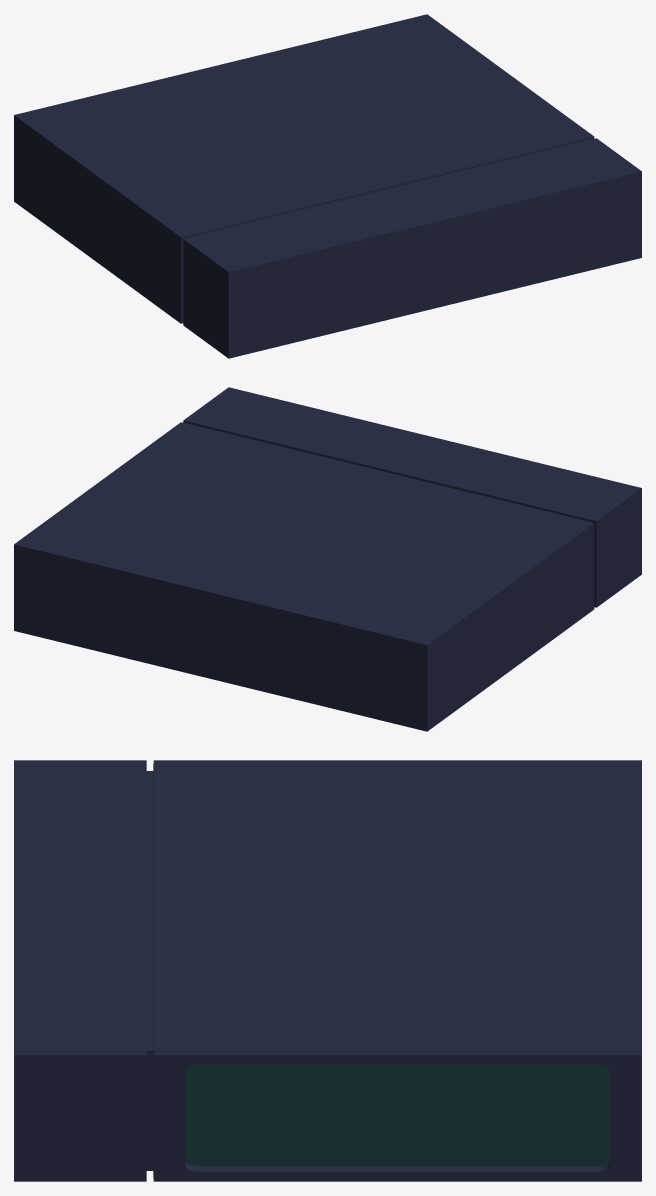
Rendered from ApparatusUnitButton.glb.
3 renders of one model, top to bottom at view 1: azimuth 30°, elevation 25°; view 2: azimuth 150°, elevation 25°; view 3: azimuth 270°, elevation 25°, orthographic. The views are drawn at different scales.
Visible parts, largest first — view 1: Cube; view 2: Cube; view 3: Cube.
Boxes of the visible parts, left/top/right/bottom form: Cube: left=14, top=14, right=641, bottom=358; Cube: left=14, top=387, right=641, bottom=731; Cube: left=14, top=760, right=641, bottom=1181.
Size of the model in its own units: 0.127 by 0.0254 by 0.1143.
